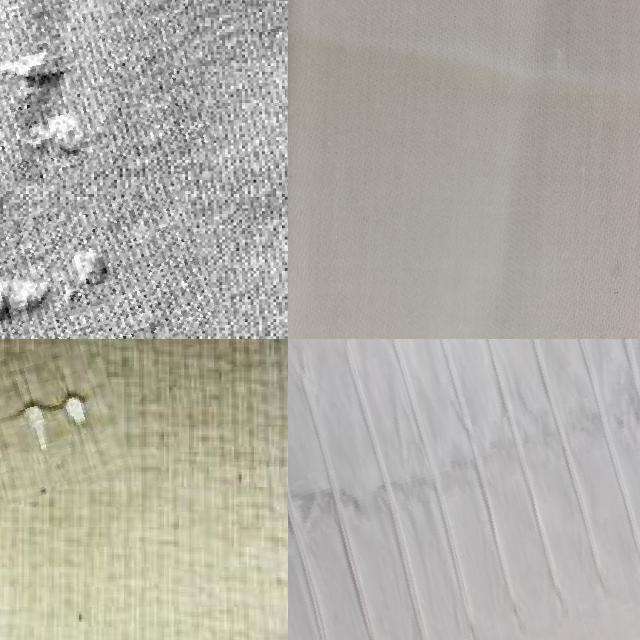Thread_out: (288, 339, 640, 640)
other: (0, 342, 125, 504)
stains: (0, 195, 214, 339)
